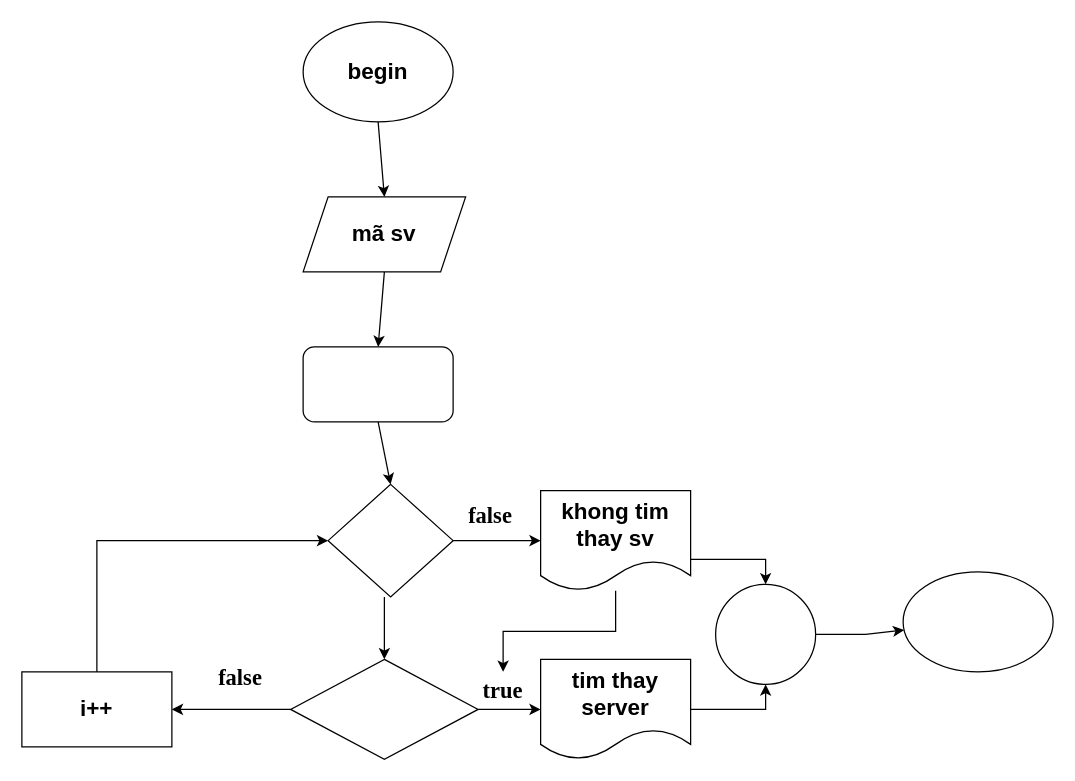
This 1075x781 diagram has some shape labels left out. Each missing label, with the centre of its shape:
"end" goes at pixel 977 621.
"i<tongSV" goes at pixel 390 540.
"i=0" goes at pixel 377 384.
